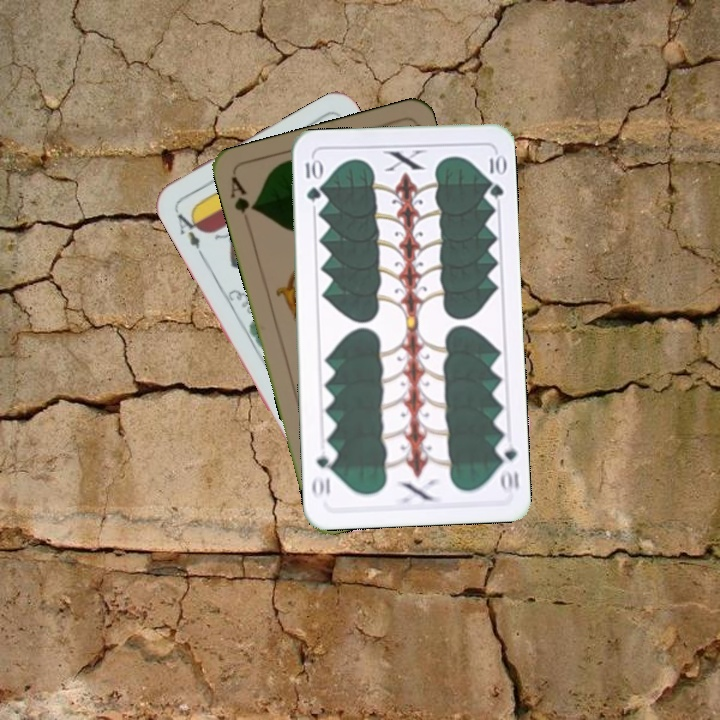EA: (171, 205, 207, 260)
G10: (493, 436, 522, 495), (301, 155, 323, 204)
GA: (226, 172, 259, 216)
